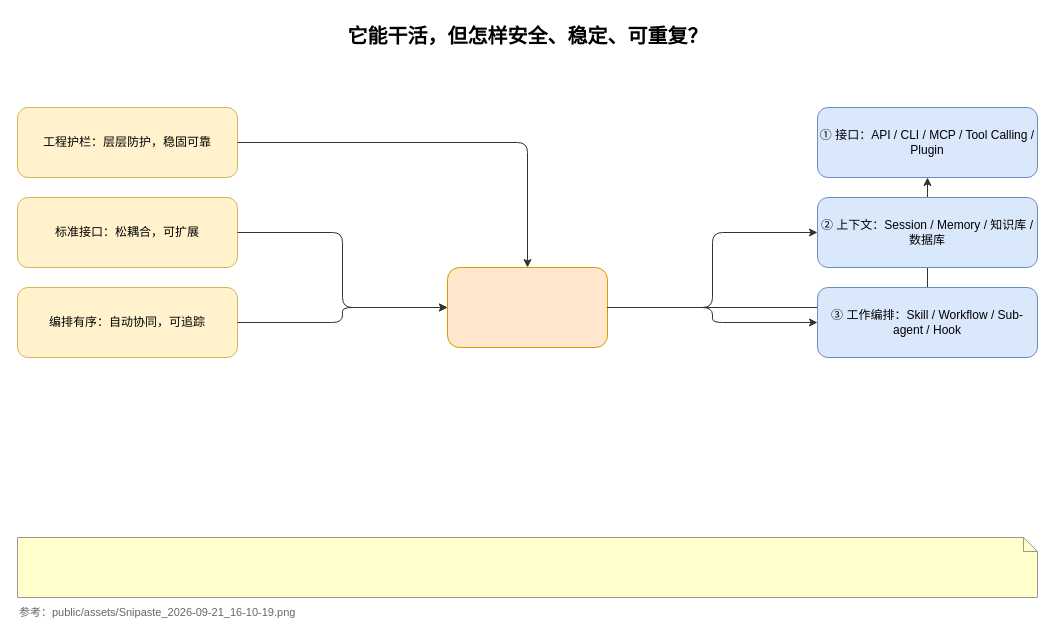
This 1055x638 diagram has some shape labels left out. Each missing label, with the centre of its shape:
Harness 不是一个单独工具，而是模型周围的一整套工程护栏与工作系统: the point at 527,567
模型引擎: the point at 527,307
